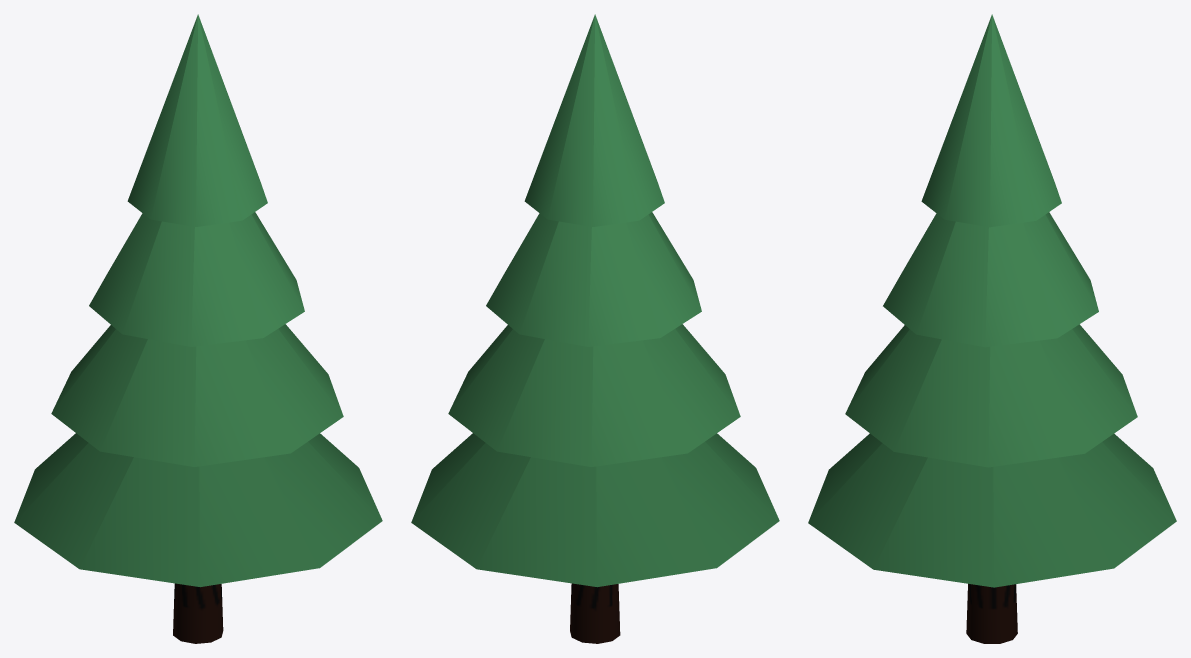
The model's file is cam.glb.
The picture shows the model from 3 angles, left to right: view 1: azimuth 30°, elevation 25°; view 2: azimuth 150°, elevation 25°; view 3: azimuth 270°, elevation 25°; orthographic projection.
Visible parts, largest first — view 1: cam-agaci; view 2: cam-agaci; view 3: cam-agaci.
Boxes of the visible parts, left/top/right/bottom form: cam-agaci: left=14, top=14, right=382, bottom=643; cam-agaci: left=411, top=14, right=779, bottom=643; cam-agaci: left=808, top=14, right=1176, bottom=643.
Bounding box in the file's own units: 3.11 × 5.84 × 3.15.
5 materials, 1 textured.
